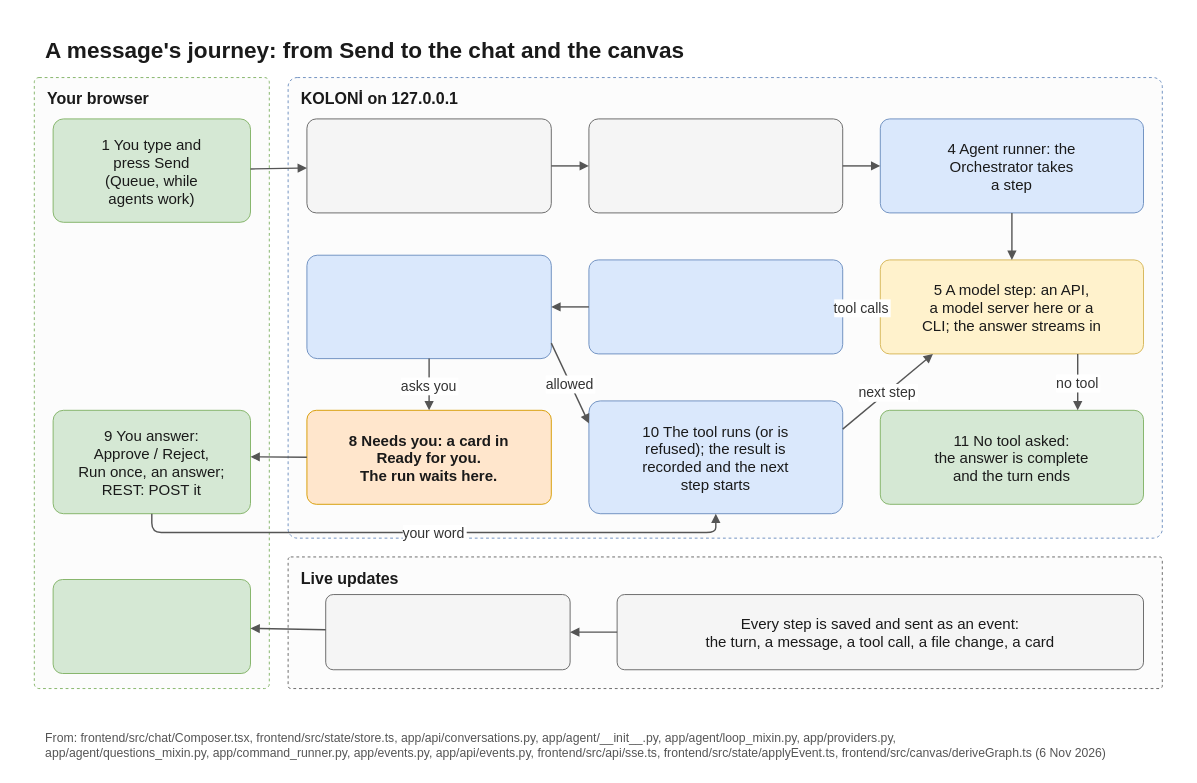
The diagram is 1197 pixels wide and 783 high, and some of its shapes have lost their labels. The shapes that lost their labels are listed below. From the top down, each one's centre as x and y in pixels, then its label:
the point at 428,165: 2 REST: POST the message to the chat (with the page key)
the point at 715,165: 3 It records the turn and your message, then starts the run
the point at 428,306: 7 Permission check: your permission level, a working copy or the project itself
the point at 715,306: 6 It asks for a tool: read, write, run a command, search the web, open an agent
the point at 151,626: 12 The page updates the chat and draws the canvas
the point at 447,632: Live stream (SSE), one per open chat
